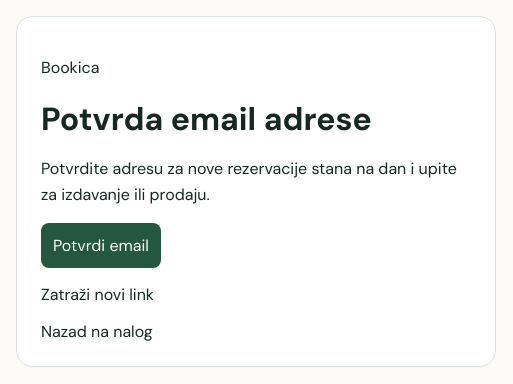
Test: requires a deliberate click and confirms without a login
Step 1. Click the button "Potvrdi email" → click(101, 246), box [41,223,161,268]
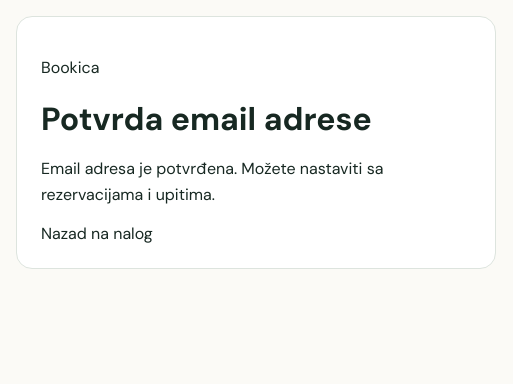
Now the message shows "Email adresa je potvrđena", box [41,158,383,205]
Now the button "Potvrdi email" is gone
